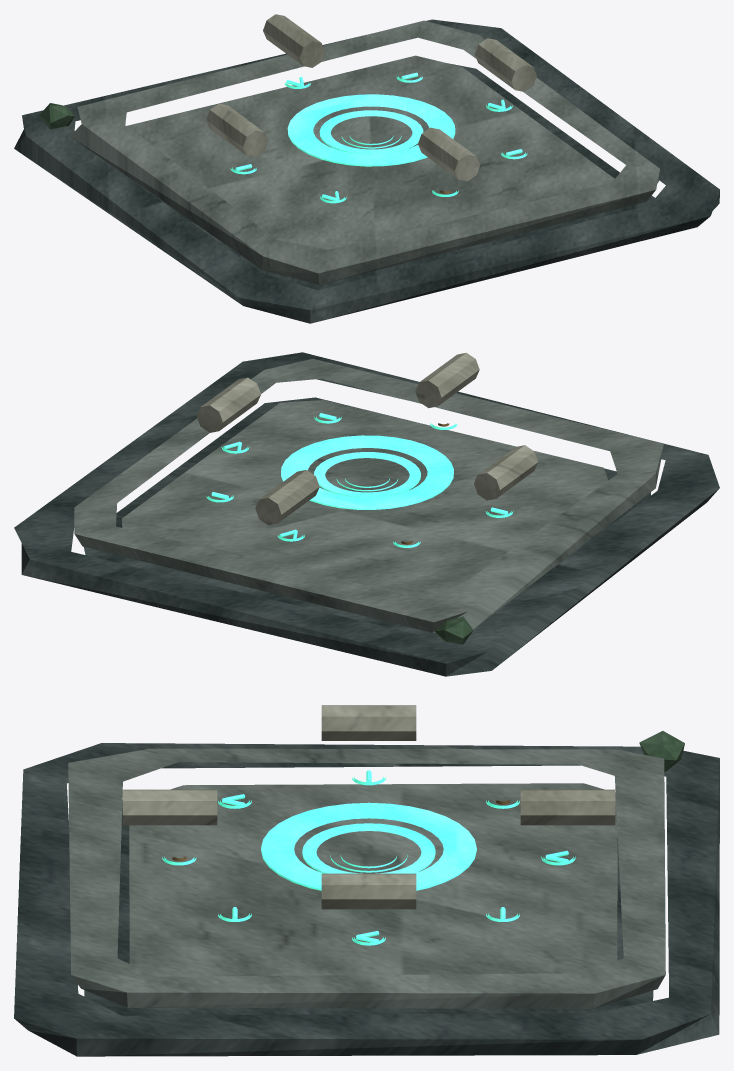
File: 0569_rune_dais_19.glb
The picture shows the model from 3 angles, top to bottom: view 1: azimuth 30°, elevation 25°; view 2: azimuth 150°, elevation 25°; view 3: azimuth 270°, elevation 25°; orthographic projection. The views are drawn at different scales.
Parts seen in each view (by area): view 1: stone, stone_dark, glow, stone_light, moss; view 2: stone, stone_dark, glow, stone_light, moss; view 3: stone, stone_dark, stone_light, glow, moss.
Boxes of the visible parts, left/top/right/bottom form: stone: left=70, top=20, right=659, bottom=284; stone_dark: left=14, top=19, right=719, bottom=323; glow: left=230, top=72, right=527, bottom=203; stone_light: left=206, top=14, right=536, bottom=181; moss: left=39, top=103, right=74, bottom=129; stone: left=74, top=359, right=663, bottom=632; stone_dark: left=14, top=352, right=719, bottom=676; glow: left=206, top=413, right=513, bottom=547; stone_light: left=196, top=352, right=538, bottom=525; moss: left=434, top=616, right=473, bottom=644; stone: left=68, top=748, right=665, bottom=1008; stone_dark: left=14, top=743, right=719, bottom=1056; stone_light: left=122, top=705, right=615, bottom=909; glow: left=162, top=770, right=575, bottom=945; moss: left=639, top=731, right=684, bottom=772.
Bounding box in the file's own units: 3.72 × 0.7092 × 3.72.
Materials: 6 (6 with a texture image).
